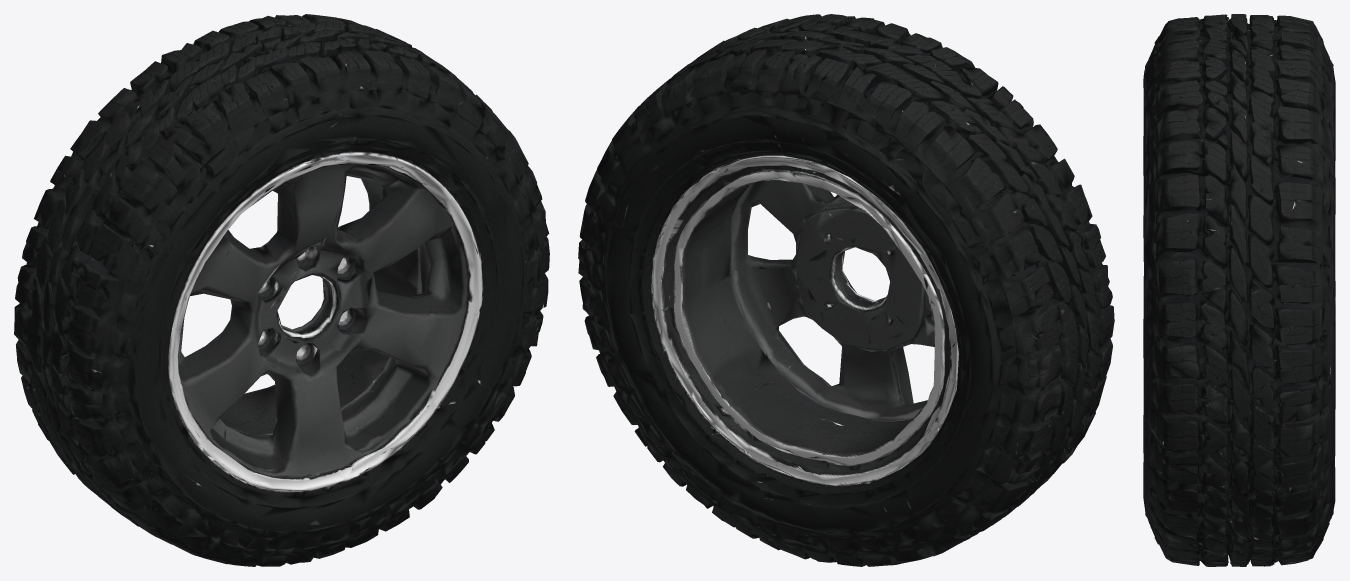
Rendered from Meshy_AI_Rugged_Alloy_Tire_20261118_texture_41460tris.glb.
3 views of the same model, side by side, from view 1: azimuth 30°, elevation 25°; view 2: azimuth 150°, elevation 25°; view 3: azimuth 270°, elevation 25° (orthographic).
Visible parts, largest first — view 1: Mesh_0; view 2: Mesh_0; view 3: Mesh_0.
Part boxes in pixels (box(x1,y1,x2,y2)): Mesh_0: box(14, 14, 549, 566); Mesh_0: box(578, 14, 1114, 566); Mesh_0: box(1143, 14, 1335, 566).
Bounding box in the file's own units: 190 × 190 × 66.18.
1 material, 1 textured.
